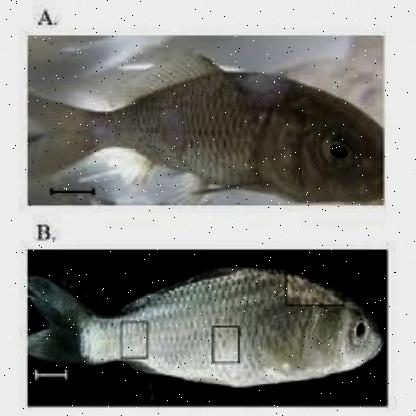ikan-mas: (31, 53, 384, 202), (28, 253, 388, 393)
